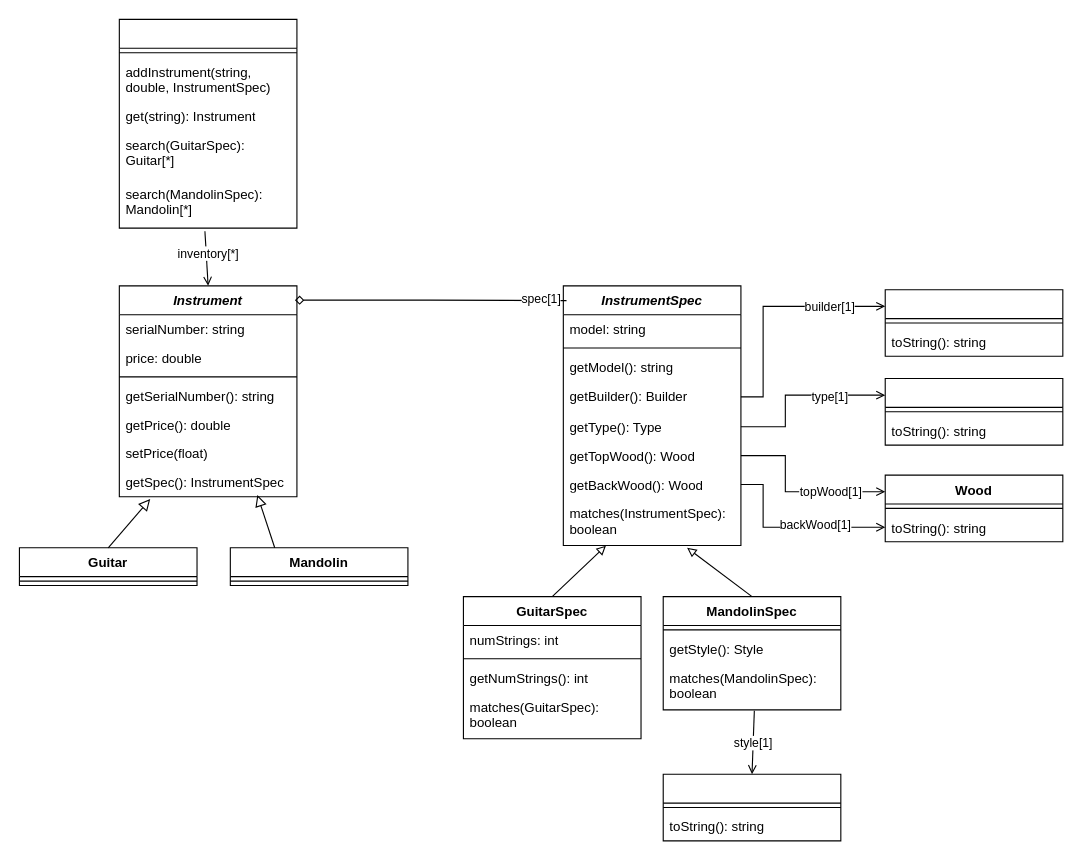
The diagram is 1082 pixels wide and 864 high, and some of its shapes have lost their labels. Each missing label, with the box of its shape:
Builder: (884, 289, 1063, 356)
Inventory: (118, 18, 297, 228)
Style: (662, 773, 841, 841)
Type: (884, 377, 1063, 445)
